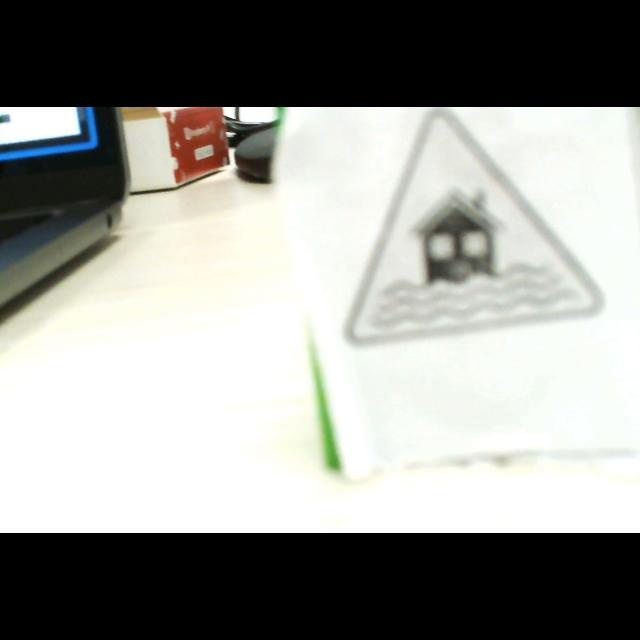Tsunami: (345, 110, 602, 345)
